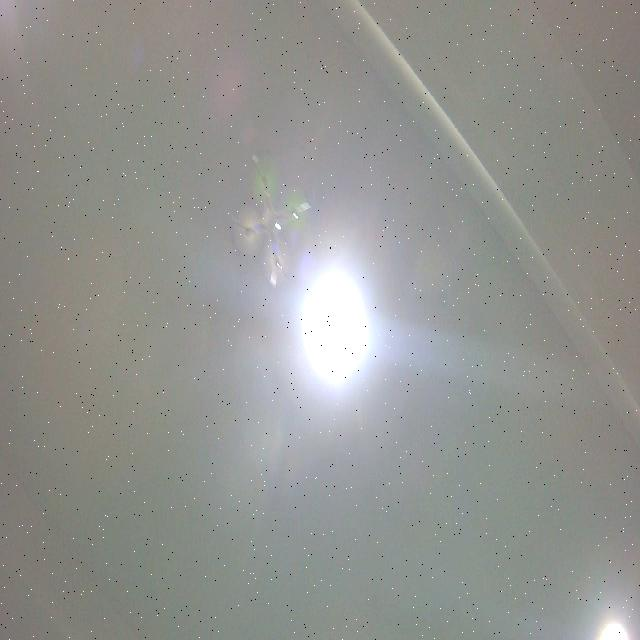drone: (226, 145, 314, 295)
